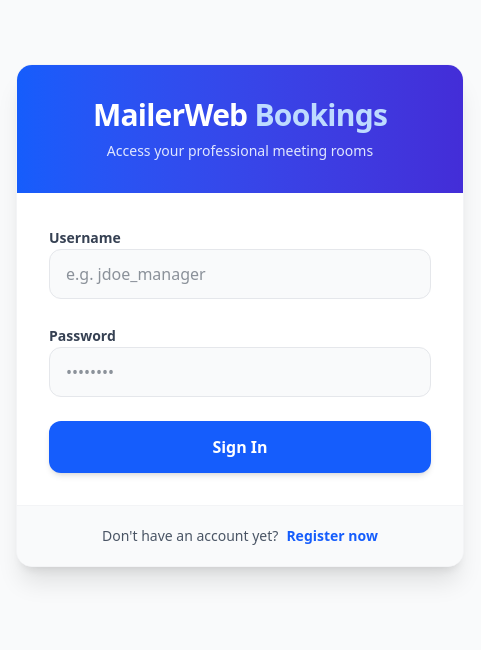
Test case: Login Page Integration › should show register form when toggle is clicked
The width and height of the screenshot is (481, 650).
Click the button "Register now": x=332, y=536 [286,526,378,546]
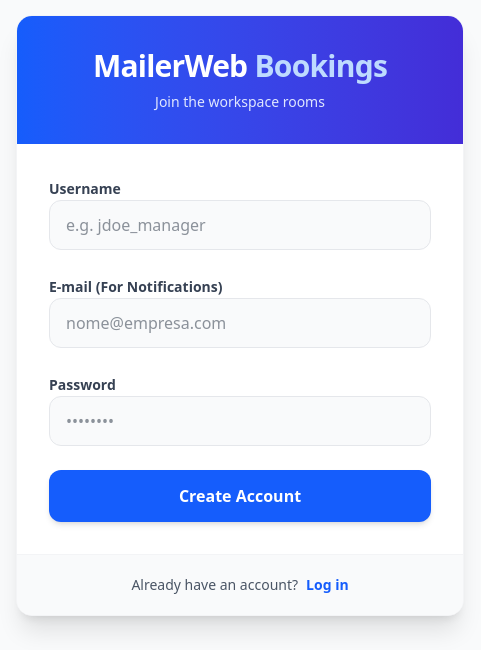
Expected: the field with placeholder "nome@empresa.com" is shown, [49,298,431,348]
Expected: the button "Create Account" is shown, [49,470,431,522]
